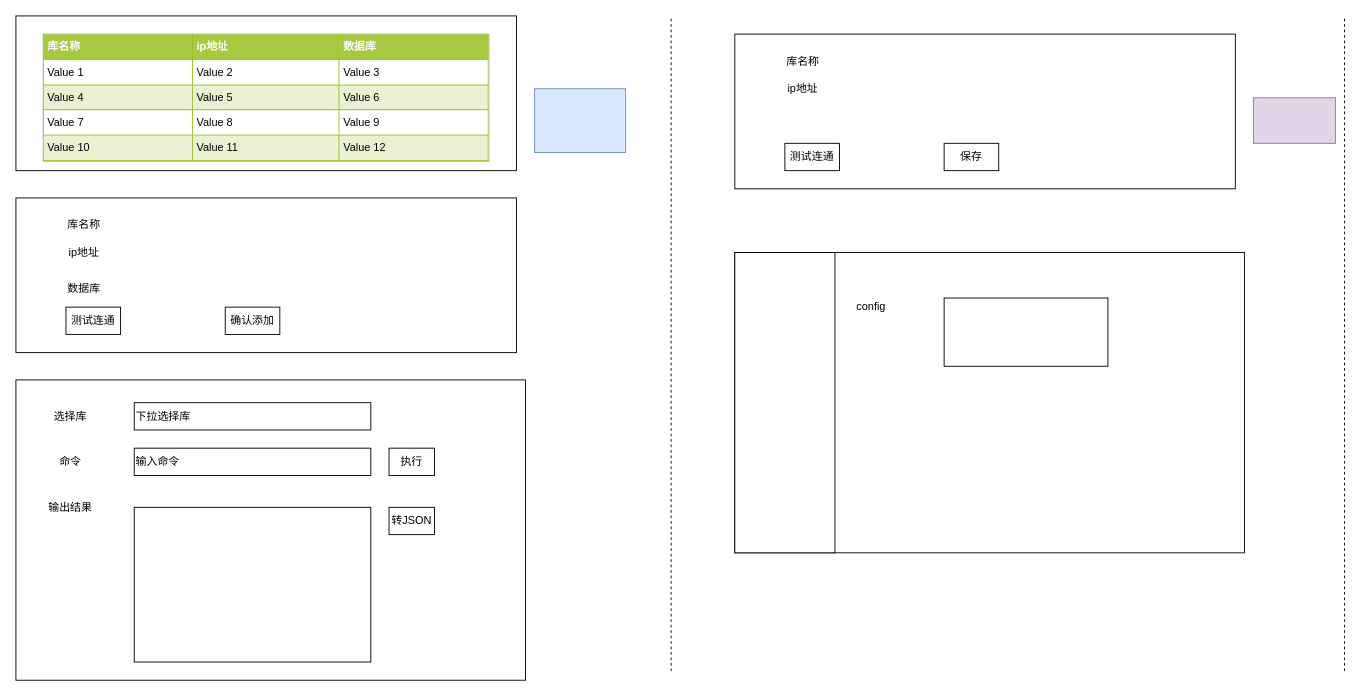
This 1361x696 diagram has some shape labels left out. Each missing label, with the centre of its shape:
"Redis" goes at point 580,120.
"tree" goes at point 784,402.
"zookeeper" goes at point 1294,120.
